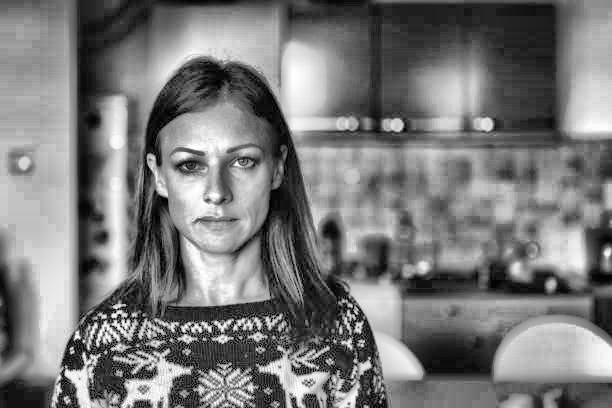sad: (161, 123, 285, 261)
